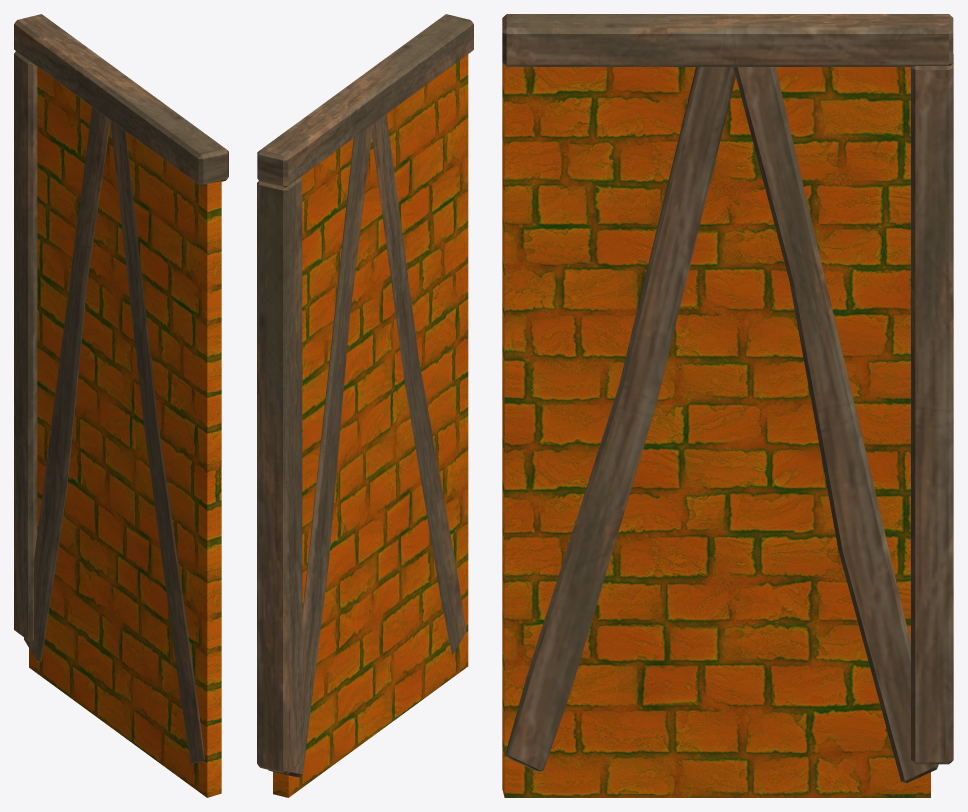
The model's file is SM_wall_20.fbx.
The picture shows the model from 3 angles, left to right: view 1: azimuth 30°, elevation 25°; view 2: azimuth 150°, elevation 25°; view 3: azimuth 270°, elevation 25°; orthographic projection. The views are drawn at different scales.
Visible parts, largest first — view 1: SM_wall_20_LOD0; view 2: SM_wall_20_LOD0; view 3: SM_wall_20_LOD0.
Part boxes in pixels (<box>): SM_wall_20_LOD0: <box>14,14,228,797</box>; SM_wall_20_LOD0: <box>257,14,473,797</box>; SM_wall_20_LOD0: <box>502,14,953,797</box>.
Bounding box in the file's own units: 20 × 212 × 400.
Materials: 2 (2 with a texture image).
